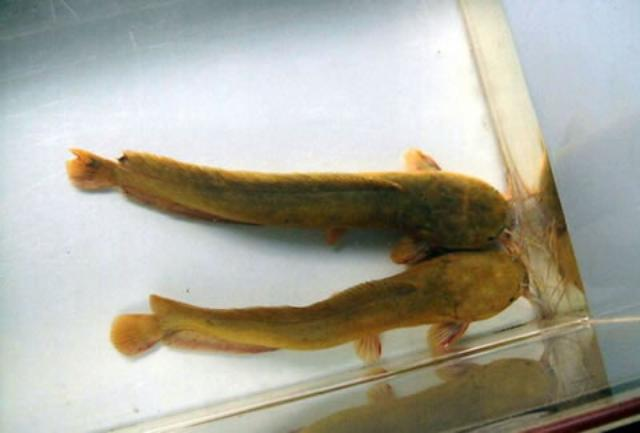Sirip Dada: (378, 135, 458, 277), (418, 310, 476, 364)
Sirip Ekor: (41, 122, 147, 224), (100, 284, 176, 372)
Sirip Perut: (308, 214, 360, 260), (344, 324, 390, 370)
Sirip Punggung: (138, 261, 430, 335)
